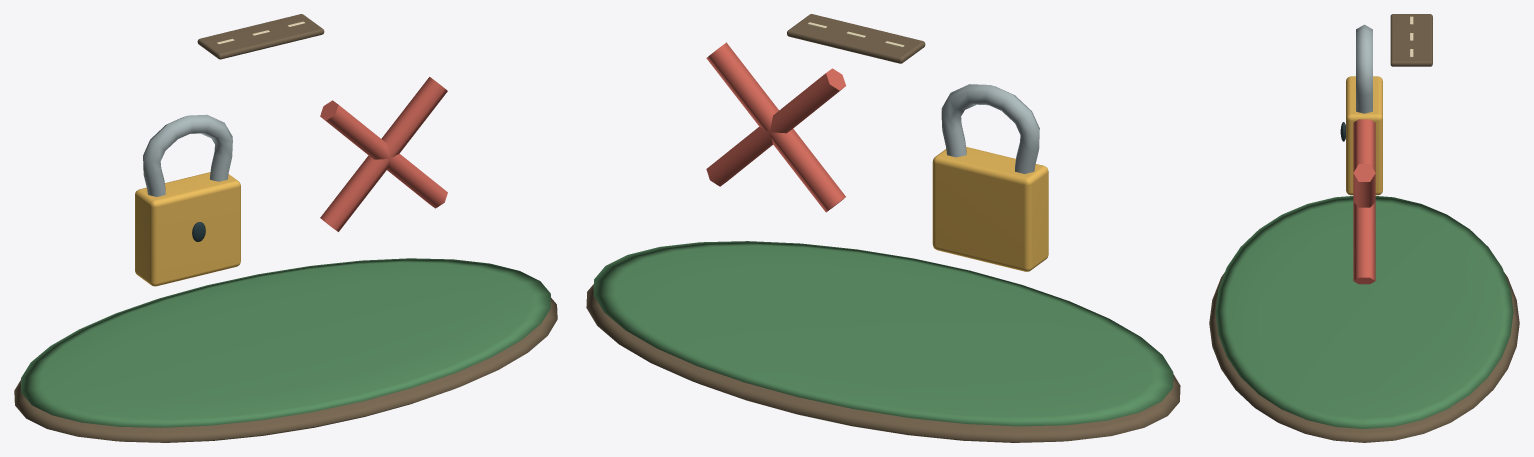
File: complete-third-restricted-stop.glb
3 renders of one model, left to right at view 1: azimuth 30°, elevation 25°; view 2: azimuth 150°, elevation 25°; view 3: azimuth 270°, elevation 25°, orthographic. The views are drawn at different scales.
Visible parts, largest first — view 1: complete-third-restricted-stop_surface_01, complete-third-restricted-stop_surface_00, complete-third-restricted-stop_surface_02, complete-third-restricted-stop_surface_05, complete-third-restricted-stop_surface_03; view 2: complete-third-restricted-stop_surface_01, complete-third-restricted-stop_surface_00, complete-third-restricted-stop_surface_02, complete-third-restricted-stop_surface_05, complete-third-restricted-stop_surface_03; view 3: complete-third-restricted-stop_surface_01, complete-third-restricted-stop_surface_00, complete-third-restricted-stop_surface_05, complete-third-restricted-stop_surface_02, complete-third-restricted-stop_surface_03.
Part boxes in pixels (box(x1,y1,x2,y2)): complete-third-restricted-stop_surface_01: box(21, 258, 550, 427); complete-third-restricted-stop_surface_00: box(14, 14, 557, 442); complete-third-restricted-stop_surface_02: box(135, 172, 240, 286); complete-third-restricted-stop_surface_05: box(320, 77, 447, 231); complete-third-restricted-stop_surface_03: box(143, 114, 232, 196); complete-third-restricted-stop_surface_01: box(593, 241, 1173, 426); complete-third-restricted-stop_surface_00: box(586, 14, 1180, 442); complete-third-restricted-stop_surface_02: box(932, 147, 1048, 271); complete-third-restricted-stop_surface_05: box(706, 42, 845, 212); complete-third-restricted-stop_surface_03: box(941, 84, 1039, 173); complete-third-restricted-stop_surface_01: box(1215, 196, 1513, 428); complete-third-restricted-stop_surface_00: box(1209, 14, 1519, 442); complete-third-restricted-stop_surface_05: box(1353, 119, 1375, 284); complete-third-restricted-stop_surface_02: box(1346, 76, 1382, 195); complete-third-restricted-stop_surface_03: box(1356, 24, 1372, 113).
Bounding box in the file's own units: 4.56 × 2.68 × 2.5.
